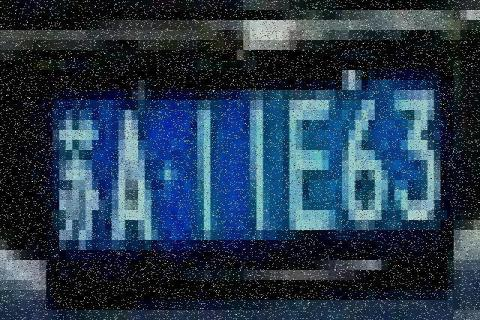LicensePlate: (34, 55, 464, 309)
